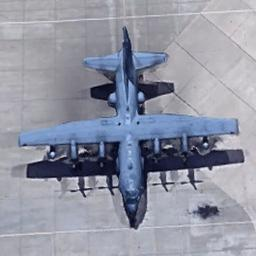Airplane: (15, 24, 245, 229)
